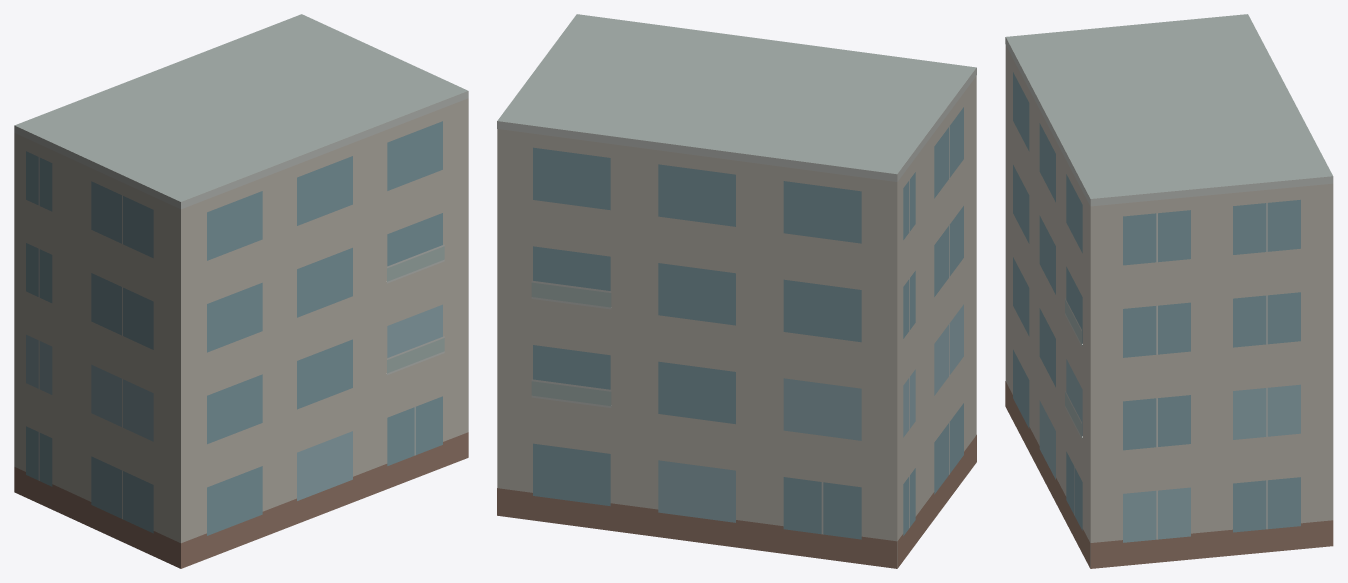
The model's file is residential-e062609b-0d17-431b-bf25-51393ed54ef0.glb.
The picture shows the model from 3 angles, left to right: view 1: azimuth 30°, elevation 25°; view 2: azimuth 150°, elevation 25°; view 3: azimuth 270°, elevation 25°; orthographic projection. The views are drawn at different scales.
Visible parts, largest first — view 1: residential-e062609b-0d17-431b-bf25-51393ed54ef0.tmp; view 2: residential-e062609b-0d17-431b-bf25-51393ed54ef0.tmp; view 3: residential-e062609b-0d17-431b-bf25-51393ed54ef0.tmp.
Part boxes in pixels (x1=…): residential-e062609b-0d17-431b-bf25-51393ed54ef0.tmp: x1=14, y1=14, x2=468, y2=568; residential-e062609b-0d17-431b-bf25-51393ed54ef0.tmp: x1=497, y1=14, x2=976, y2=568; residential-e062609b-0d17-431b-bf25-51393ed54ef0.tmp: x1=1005, y1=14, x2=1333, y2=568.
Size of the model in its own units: 13.1 by 12.2 by 9.81.
